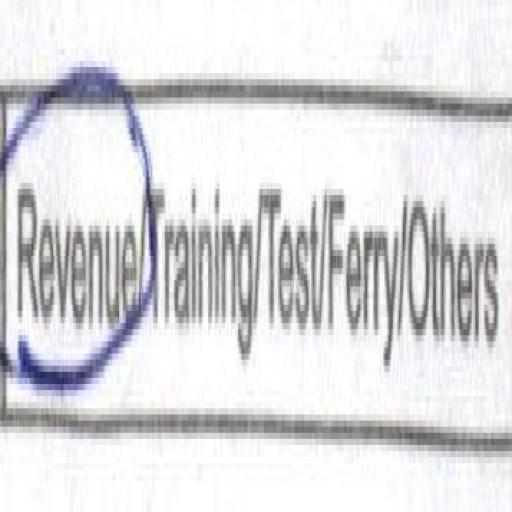check: (2, 47, 148, 471)
